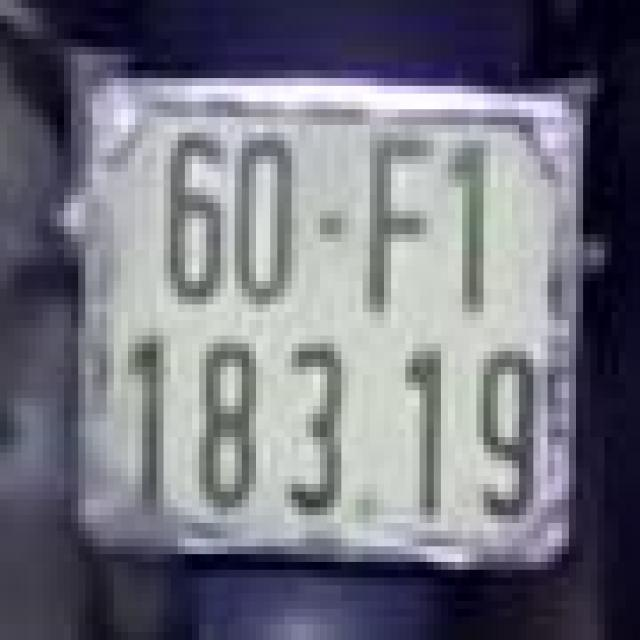0: (234, 117, 306, 320)
1: (398, 328, 455, 538), (118, 324, 174, 527), (444, 129, 494, 324)
3: (281, 324, 359, 527)
6: (156, 113, 234, 316)
8: (192, 328, 263, 531)
9: (459, 332, 551, 542)
F: (352, 117, 437, 320)
